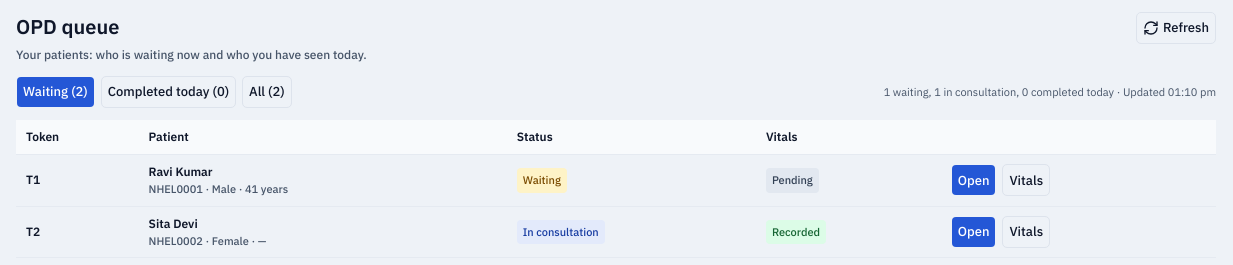
it: OpdQueue › Refresh loads the queue again and shows the new patient
Click the button "Refresh" at (1176, 28), box [1136,12,1216,44]
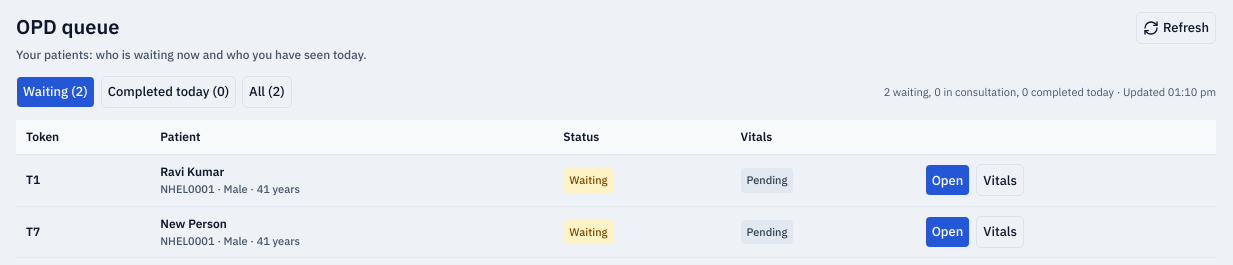
Check: the text "New Person" is shown, box [160,216,227,230]
Check: the text "Sita Devi" is gone
